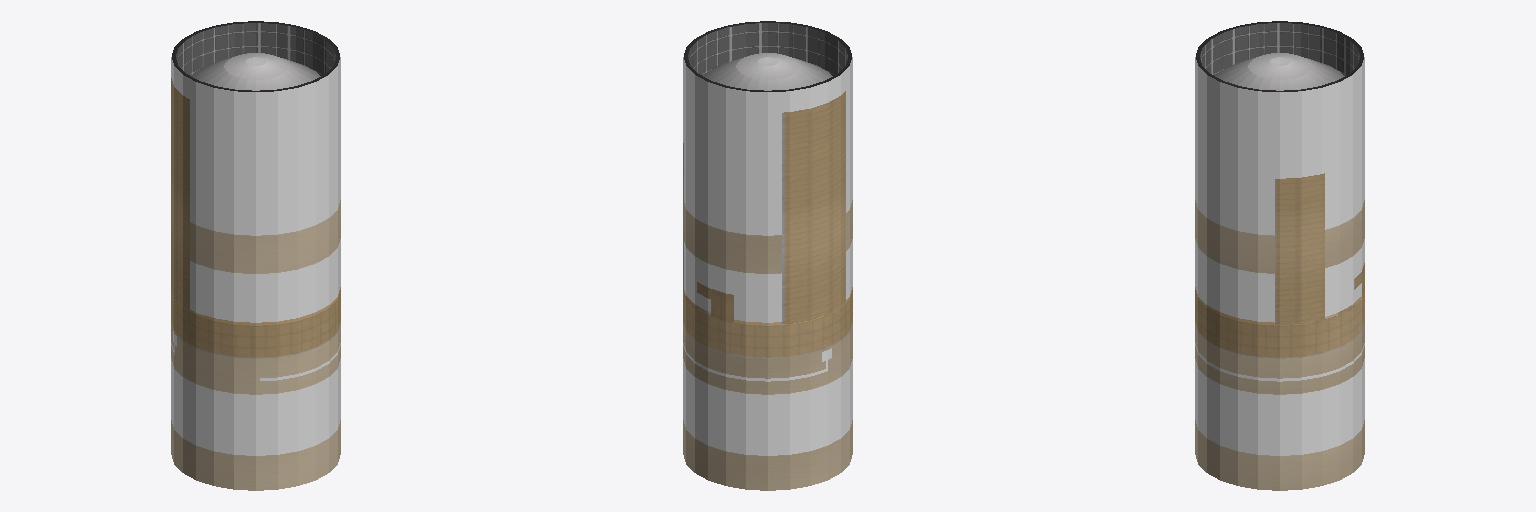
3 renders of one model, left to right at view 1: azimuth 30°, elevation 25°; view 2: azimuth 150°, elevation 25°; view 3: azimuth 270°, elevation 25°, orthographic.
Parts seen in each view (by area): view 1: Cylinder1; view 2: Cylinder1; view 3: Cylinder1.
Part boxes in pixels (bbox=[...]): Cylinder1: bbox=[171, 21, 340, 490]; Cylinder1: bbox=[683, 21, 852, 490]; Cylinder1: bbox=[1195, 21, 1364, 490].
Bounding box in the file's own units: 3 × 7.8 × 3.
1 materials, 1 textured.